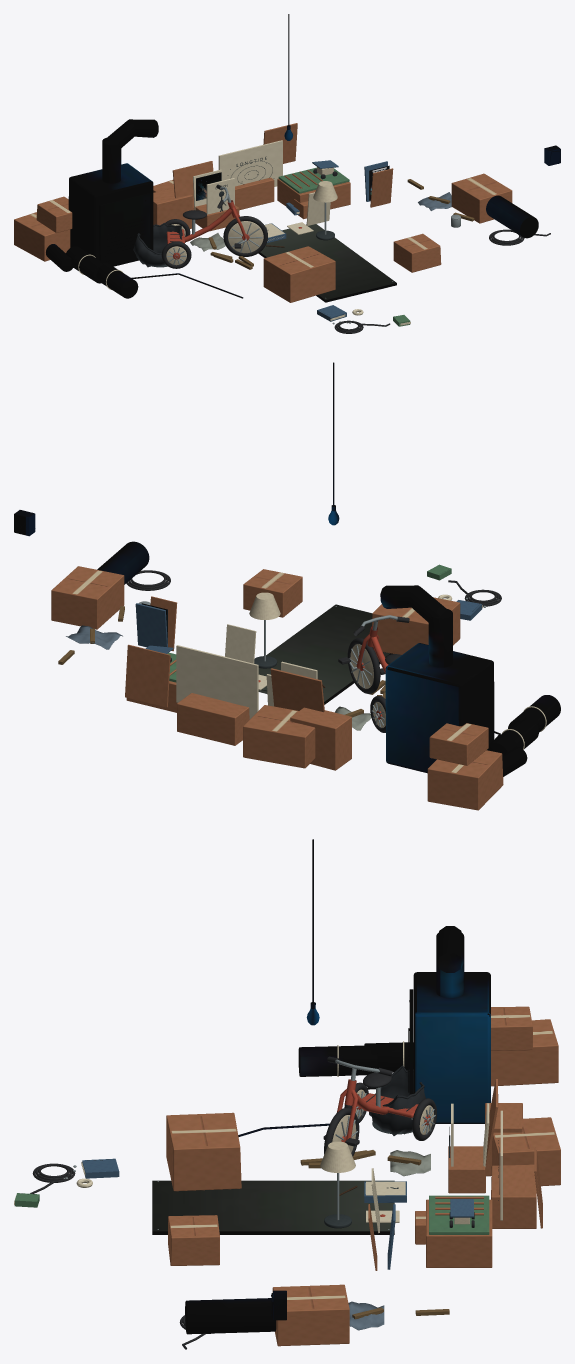
Rendered from attic.glb.
3 renders of one model, top to bottom at view 1: azimuth 30°, elevation 25°; view 2: azimuth 150°, elevation 25°; view 3: azimuth 270°, elevation 25°, orthographic. The views are drawn at different scales.
Visible parts, largest first — view 1: Old attic furnace, The one leftover plywood sheet, Attic utility carton, Furnace service panel, Loose Longtide paper study, Low dusty storage box, Attic storage carton, Shifted smaller carton, Stored short duct, Plain carton supporting stored cartridge art, Unsorted carton beside it, Bent carton behind drawing (+17 smaller); view 2: Old attic furnace, The one leftover plywood sheet, Loose Longtide paper study, Low dusty storage box, Old box beyond braces, Attic storage carton, Bent carton behind drawing, Attic utility carton, Plain carton supporting stored cartridge art, Unmarked cardboard leaning study, Unsorted carton beside it, Shifted smaller carton (+13 smaller); view 3: Old attic furnace, The one leftover plywood sheet, Attic utility carton, Low dusty storage box, Old box beyond braces, Attic storage carton, Stored short duct, Bent carton behind drawing, Shifted smaller carton, Rough farm model carton, Dusty rolled insulation, Unsorted carton beside it (+11 smaller).
Part boxes in pixels (x1,y1,x2,y2): Old attic furnace: (68, 163, 153, 266); The one leftover plywood sheet: (258, 224, 396, 302); Attic utility carton: (263, 246, 335, 302); Furnace service panel: (99, 193, 150, 261); Loose Longtide paper study: (218, 140, 282, 186); Low dusty storage box: (451, 173, 512, 223); Attic storage carton: (14, 212, 70, 261); Shifted smaller carton: (393, 233, 441, 272); Stored short duct: (486, 195, 538, 238); Plain carton supporting stored cartridge art: (153, 188, 192, 228); Unsorted carton beside it: (36, 196, 72, 232); Bent carton behind drawing: (235, 177, 274, 210); Old attic furnace: (385, 643, 494, 773); The one leftover plywood sheet: (258, 604, 392, 704); Loose Longtide paper study: (176, 645, 258, 719); Low dusty storage box: (51, 566, 124, 629); Old box beyond braces: (243, 705, 315, 768); Attic storage carton: (427, 750, 503, 810); Bent carton behind drawing: (177, 693, 249, 745); Attic utility carton: (372, 597, 460, 654); Plain carton supporting stored cartridge art: (290, 707, 351, 770); Unmarked cardboard leaning study: (125, 644, 170, 707); Unsorted carton beside it: (429, 723, 488, 765); Shifted smaller carton: (243, 569, 302, 617); Old attic furnace: (413, 972, 490, 1123); The one leftover plywood sheet: (152, 1180, 394, 1234); Attic utility carton: (166, 1112, 241, 1191); Low dusty storage box: (272, 1284, 349, 1346); Old box beyond braces: (492, 1117, 560, 1186); Attic storage carton: (491, 1019, 558, 1086); Stored short duct: (185, 1298, 276, 1334); Bent carton behind drawing: (491, 1164, 536, 1228); Shifted smaller carton: (168, 1215, 219, 1265); Rough farm model carton: (426, 1199, 492, 1267); Dusty rolled insulation: (298, 1045, 377, 1076); Unsorted carton beside it: (491, 1006, 532, 1050).
Bounding box in the file's own units: 7.71 × 4.04 × 5.51.
Materials: 27 (27 with a texture image).
